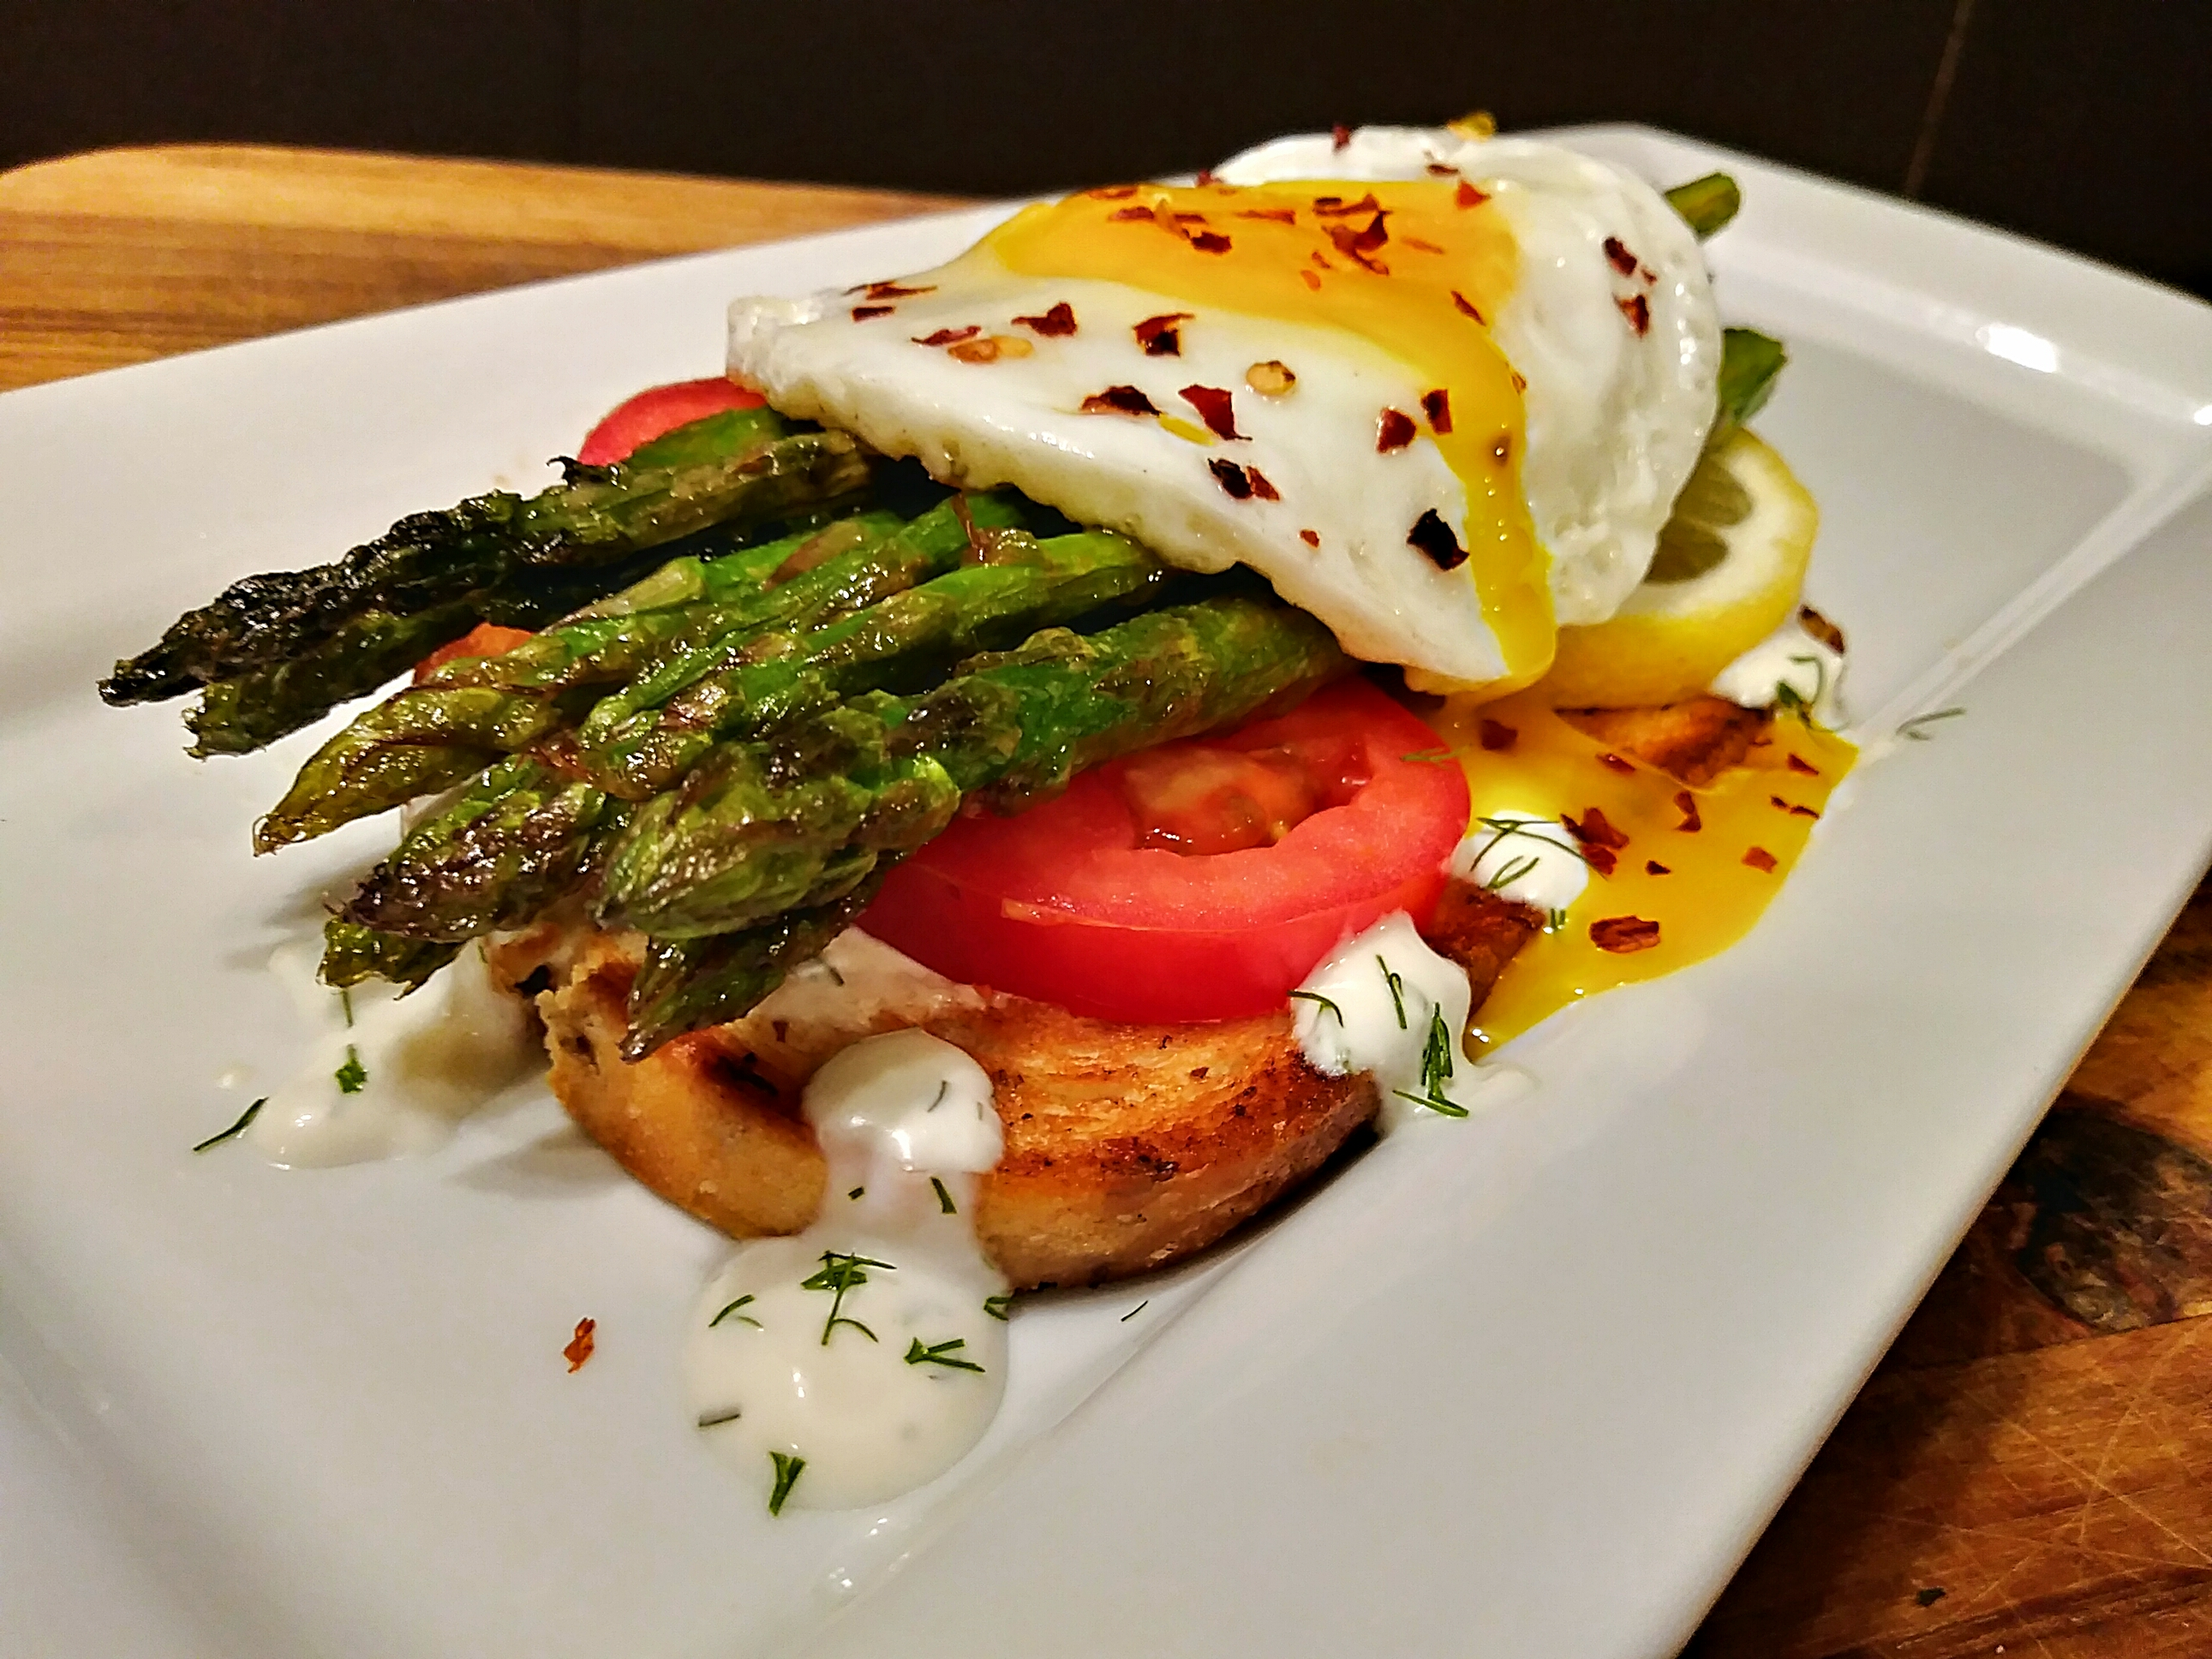fried egg: (779, 138, 1693, 629)
slice of bread: (568, 999, 1438, 1284)
